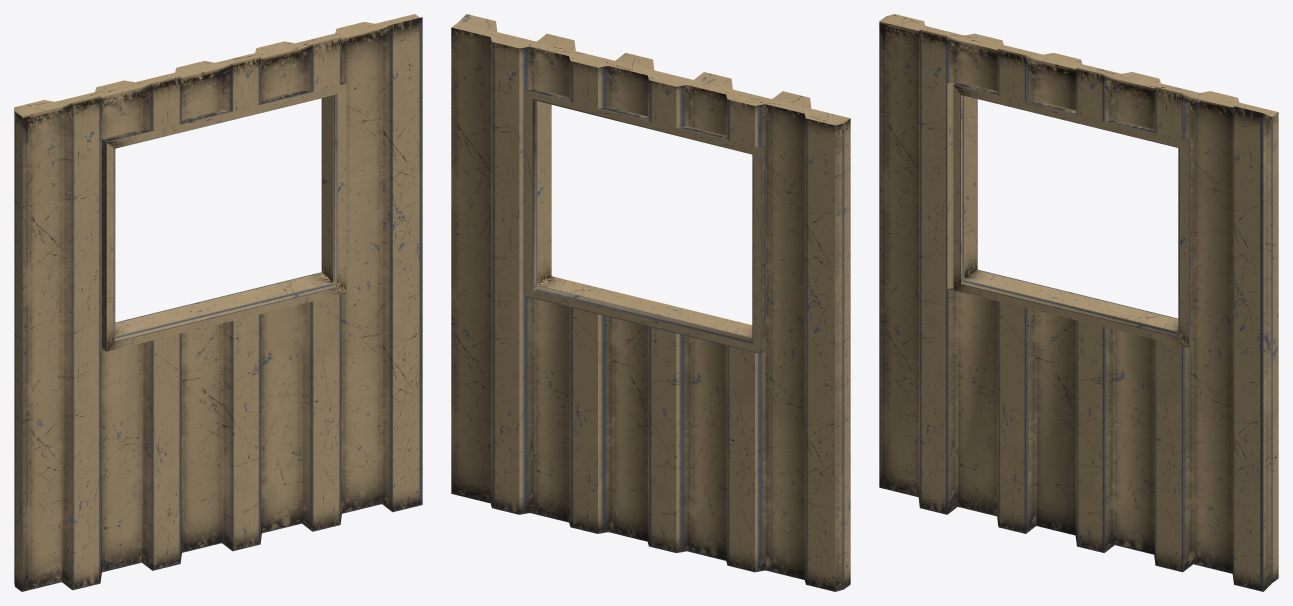
Rendered from CnWallWindowA1.fbx.
3 renders of one model, left to right at view 1: azimuth 30°, elevation 25°; view 2: azimuth 150°, elevation 25°; view 3: azimuth 330°, elevation 25°, orthographic.
Parts seen in each view (by area): view 1: CnWallWindowA1; view 2: CnWallWindowA1; view 3: CnWallWindowA1.
Boxes of the visible parts, bbox=[...] form: CnWallWindowA1: bbox=[14, 14, 422, 591]; CnWallWindowA1: bbox=[451, 14, 850, 591]; CnWallWindowA1: bbox=[879, 14, 1278, 591].
Size of the model in its own units: 200 by 233 by 14.
